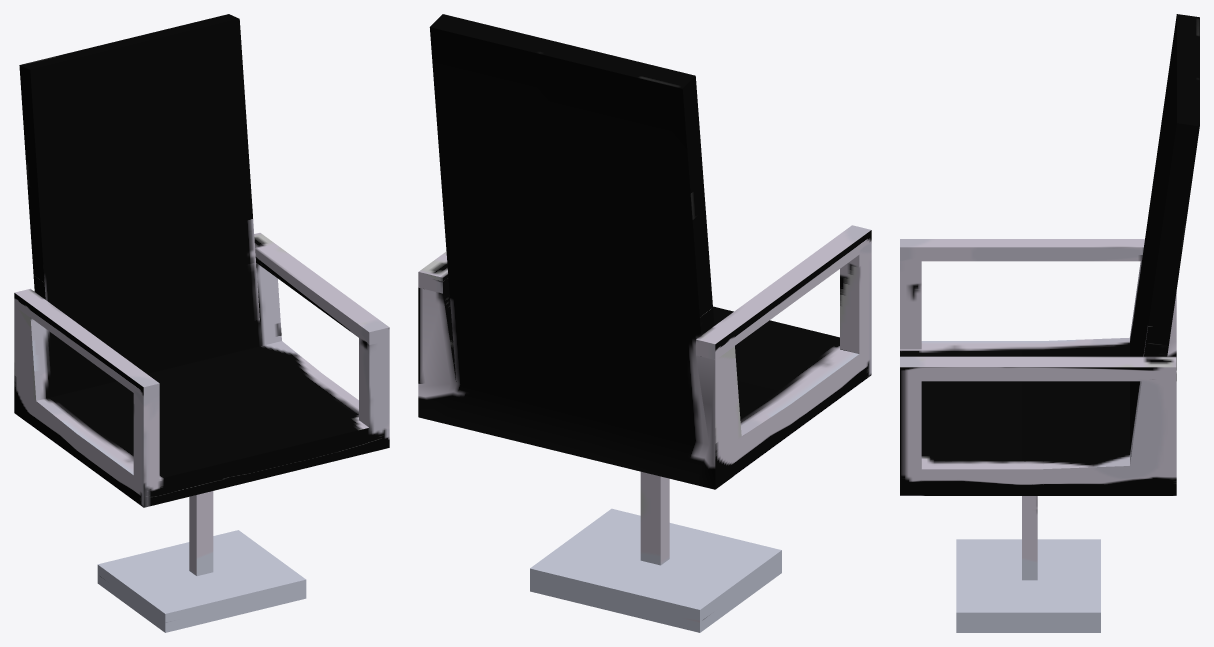
The model's file is office chair.fbx.
3 views of the same model, side by side, from view 1: azimuth 30°, elevation 25°; view 2: azimuth 150°, elevation 25°; view 3: azimuth 270°, elevation 25° (orthographic). The views are drawn at different scales.
Visible parts, largest first — view 1: pCube1; view 2: pCube1; view 3: pCube1.
Boxes of the visible parts, x1,y1,x2,y2 form: pCube1: (14,14,389,632); pCube1: (418,14,871,632); pCube1: (900,14,1199,632).
Size of the model in its own units: 139 by 268 by 138.
Materials: 1 (1 with a texture image).
